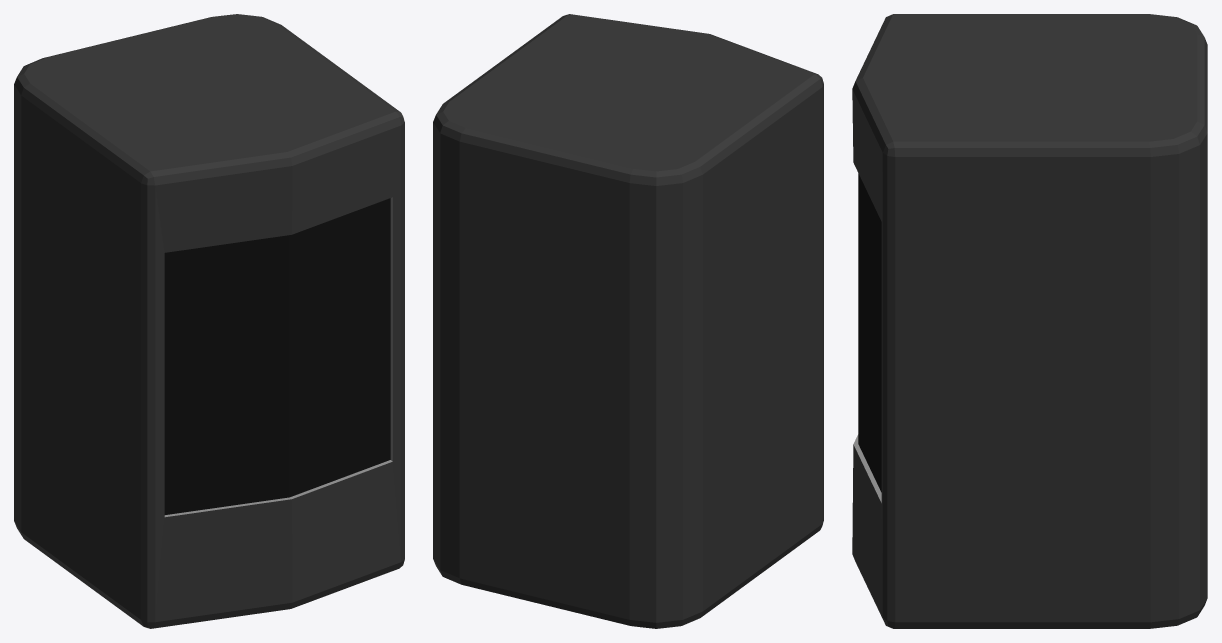
The model's file is Prop_HomeTheater_02.fbx.
3 renders of one model, left to right at view 1: azimuth 30°, elevation 25°; view 2: azimuth 150°, elevation 25°; view 3: azimuth 270°, elevation 25°, orthographic. The views are drawn at different scales.
Visible parts, largest first — view 1: Prop_HomeTheater_02; view 2: Prop_HomeTheater_02; view 3: Prop_HomeTheater_02.
Boxes of the visible parts, x1=… form: Prop_HomeTheater_02: x1=14, y1=14, x2=404, y2=628; Prop_HomeTheater_02: x1=433, y1=14, x2=823, y2=628; Prop_HomeTheater_02: x1=852, y1=14, x2=1207, y2=628.
Bounding box in the file's own units: 36.62 × 60.99 × 40.3.
